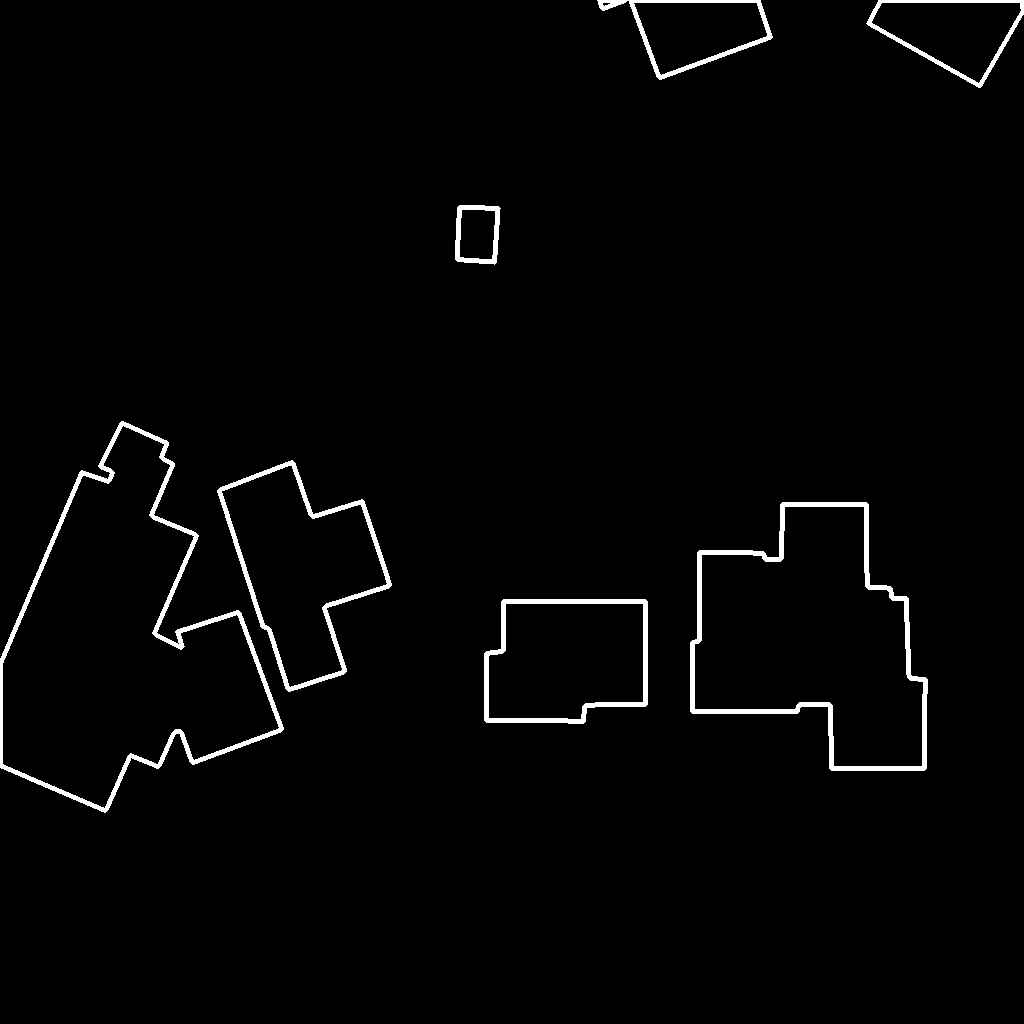building: (0, 423, 283, 812), (692, 504, 926, 769), (219, 462, 391, 691), (486, 601, 646, 722), (599, 0, 772, 79), (868, 0, 1024, 87), (457, 207, 499, 263)
